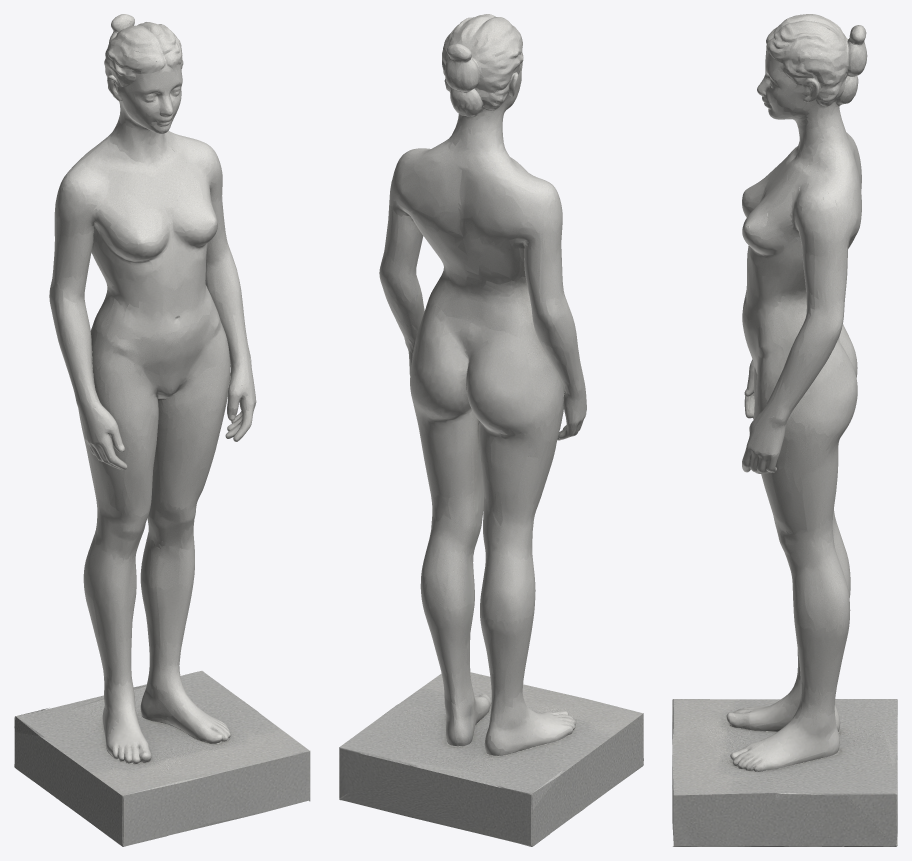
The picture shows the model from 3 angles, left to right: view 1: azimuth 30°, elevation 25°; view 2: azimuth 150°, elevation 25°; view 3: azimuth 270°, elevation 25°; orthographic projection. The views are drawn at different scales.
Size of the model in its own units: 0.4993 by 1.9 by 0.4994.
1 material, 1 textured.
